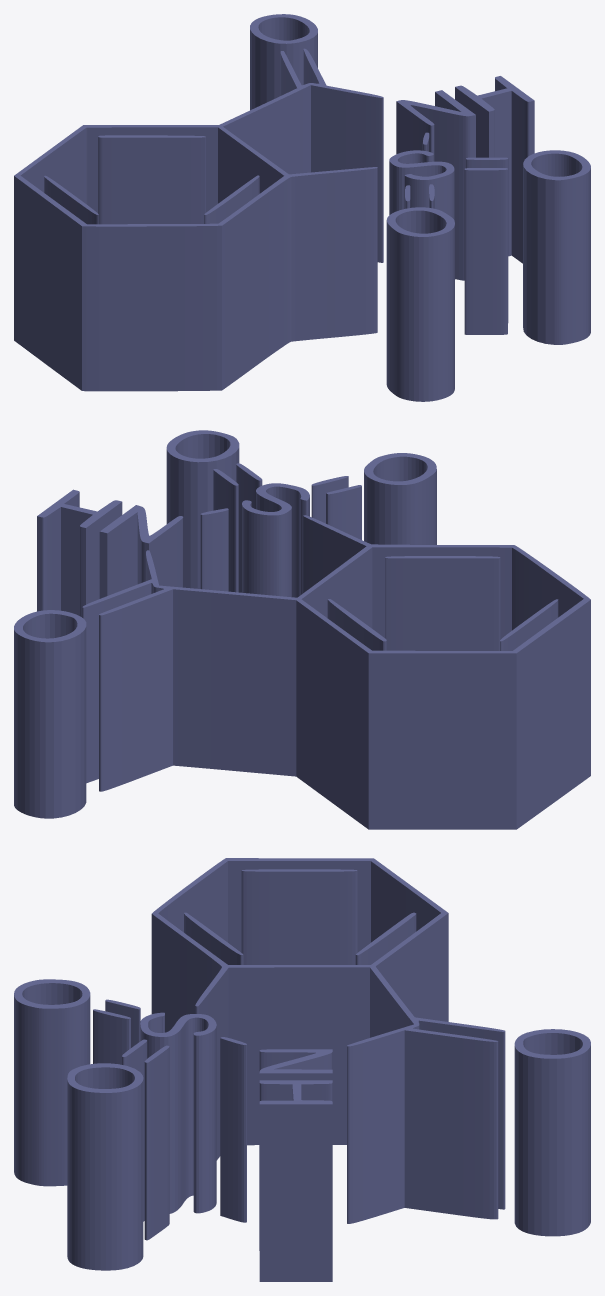
The model's file is saccharin.gltf.
3 views of the same model, one above another, from view 1: azimuth 30°, elevation 25°; view 2: azimuth 150°, elevation 25°; view 3: azimuth 270°, elevation 25° (orthographic). The views are drawn at different scales.
Visible parts, largest first — view 1: Mesh_Mesh_head_geo.001_lambert2SG.001; view 2: Mesh_Mesh_head_geo.001_lambert2SG.001; view 3: Mesh_Mesh_head_geo.001_lambert2SG.001.
Boxes of the visible parts, x1,y1,x2,y2 form: Mesh_Mesh_head_geo.001_lambert2SG.001: [14, 14, 590, 401]; Mesh_Mesh_head_geo.001_lambert2SG.001: [14, 430, 590, 829]; Mesh_Mesh_head_geo.001_lambert2SG.001: [14, 858, 590, 1281].
Size of the model in its own units: 65.4 by 22 by 64.78.
